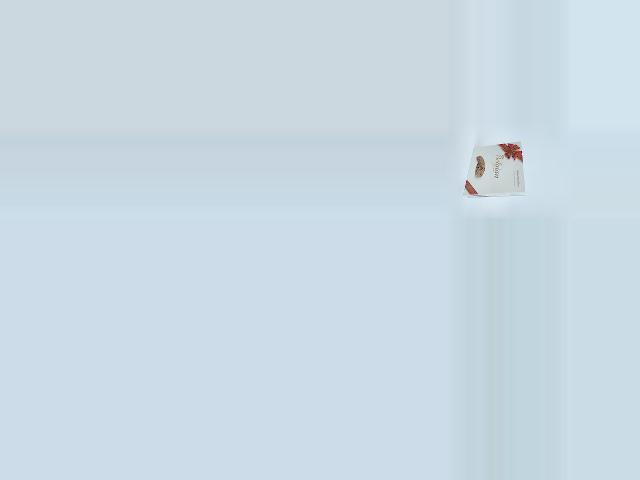chocolate: (460, 140, 523, 209)
